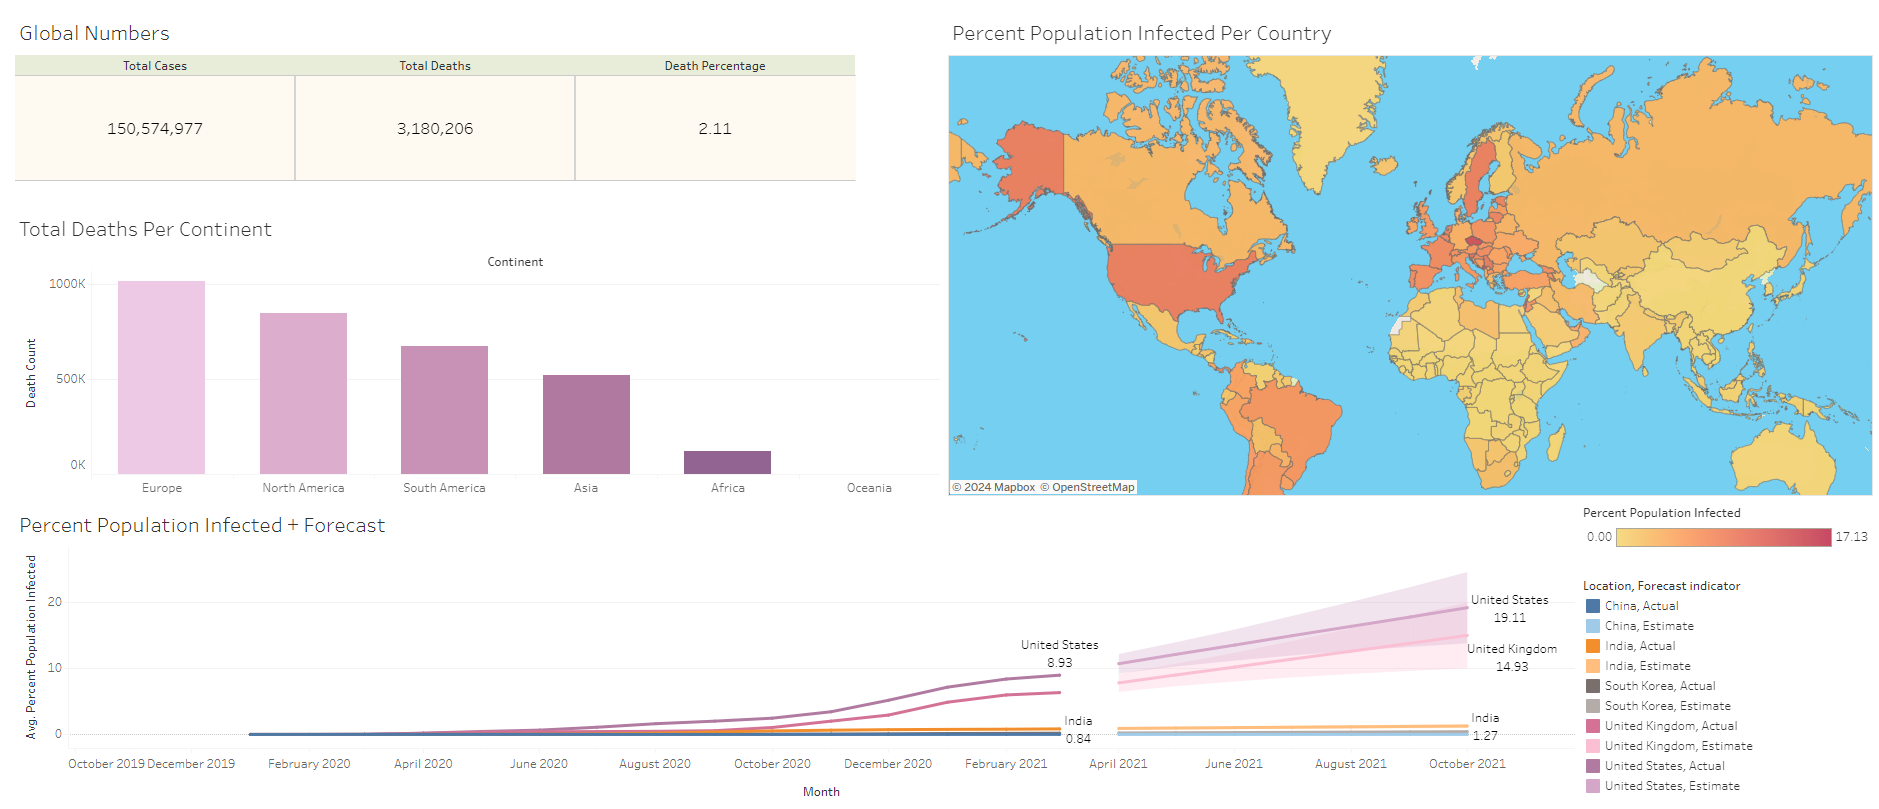

What the dashboard file says about the page in this screenshot:
{"tool":"tableau","page":{"name":"Dashboard 1","canvas":[1000,1000],"units":"permille","ordinal":0},"visuals":[{"type":"worksheet","title":"Sheet 1","mark":"Automatic","box":[4.7,9.3,495.3,240.7]},{"type":"worksheet","title":"Sheet 3","mark":"Automatic","box":[500,9.3,495.3,603]},{"type":"worksheet","title":"Sheet 2","mark":"Automatic","rows":["TotalDeathCount"],"cols":["location"],"box":[4.7,250,495.3,362.3]},{"type":"worksheet","title":"Sheet 4","mark":"Automatic","rows":["PercentPopulationInfected"],"cols":["date"],"box":[4.7,612.3,832.5,378.5]},{"type":"legend","title":"Sheet 3","param":"[federated.11wuww9034ce6n19q4mlp1bxl9e8].[sum:PercentPopulationInfected:qk]","box":[837.1,612.3,158.2,89.1]},{"type":"legend","title":"Sheet 4","param":"[federated.19p5njt032gz7m18rabdj1r6l1s0].[none:Location:nk]\n[federated.19p5njt03","box":[837.1,701.4,158.2,289.4]}]}

Visuals, with their boxes on the dashboard's canvas, which has no fixed pixel size, in thousandths of its width and height (x1, y1, x2, y2). These are canvas units, not pixel positions in the 1879x809 screenshot, which may show the page scaled, cropped or inside an application window:
"Sheet 1" worksheet: left=5, top=9, right=500, bottom=250
"Sheet 3" worksheet: left=500, top=9, right=995, bottom=612
"Sheet 2" worksheet: left=5, top=250, right=500, bottom=612
"Sheet 4" worksheet: left=5, top=612, right=837, bottom=991
"Sheet 3" legend: left=837, top=612, right=995, bottom=701
"Sheet 4" legend: left=837, top=701, right=995, bottom=991
